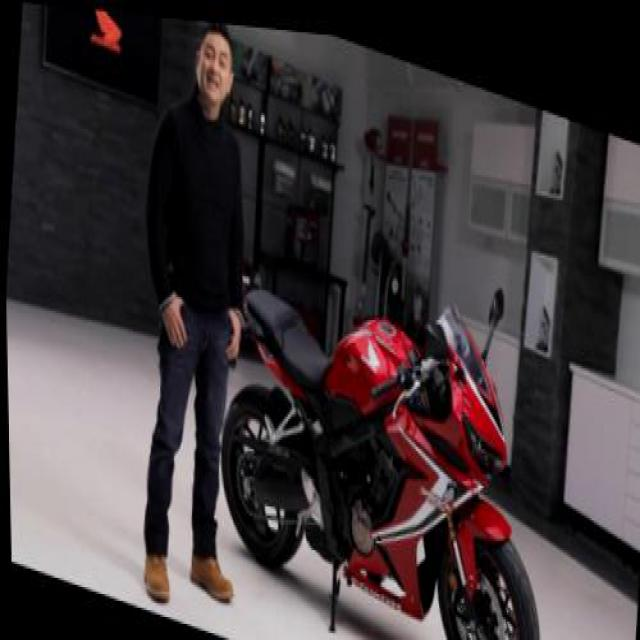CBR650R: (201, 221, 564, 638)
